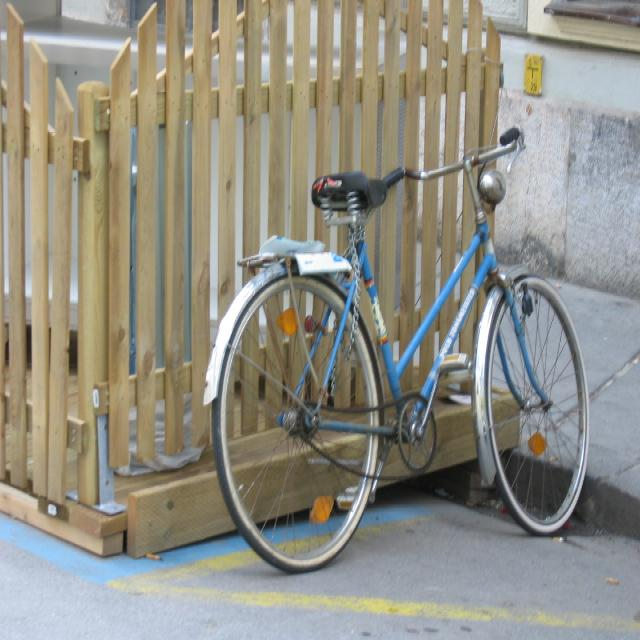bicycle: (203, 123, 590, 573)
